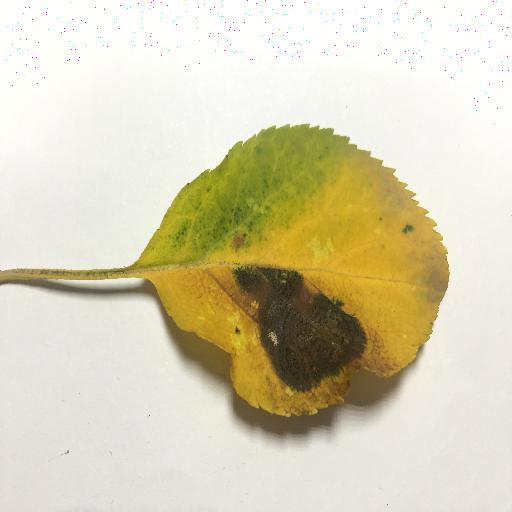Brown_Spot: (212, 256, 375, 396)
